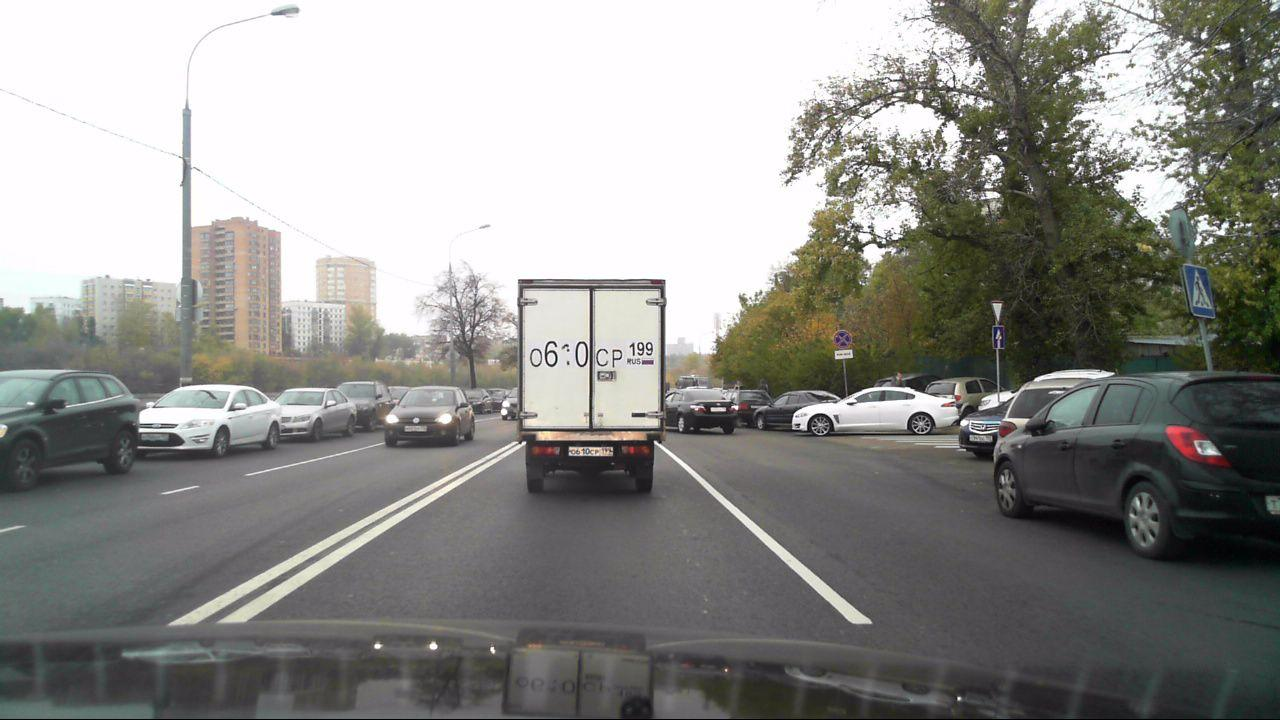road_sign: (1183, 264, 1216, 318), (832, 331, 853, 348), (990, 301, 1005, 323), (992, 326, 1005, 349), (835, 349, 854, 360)
